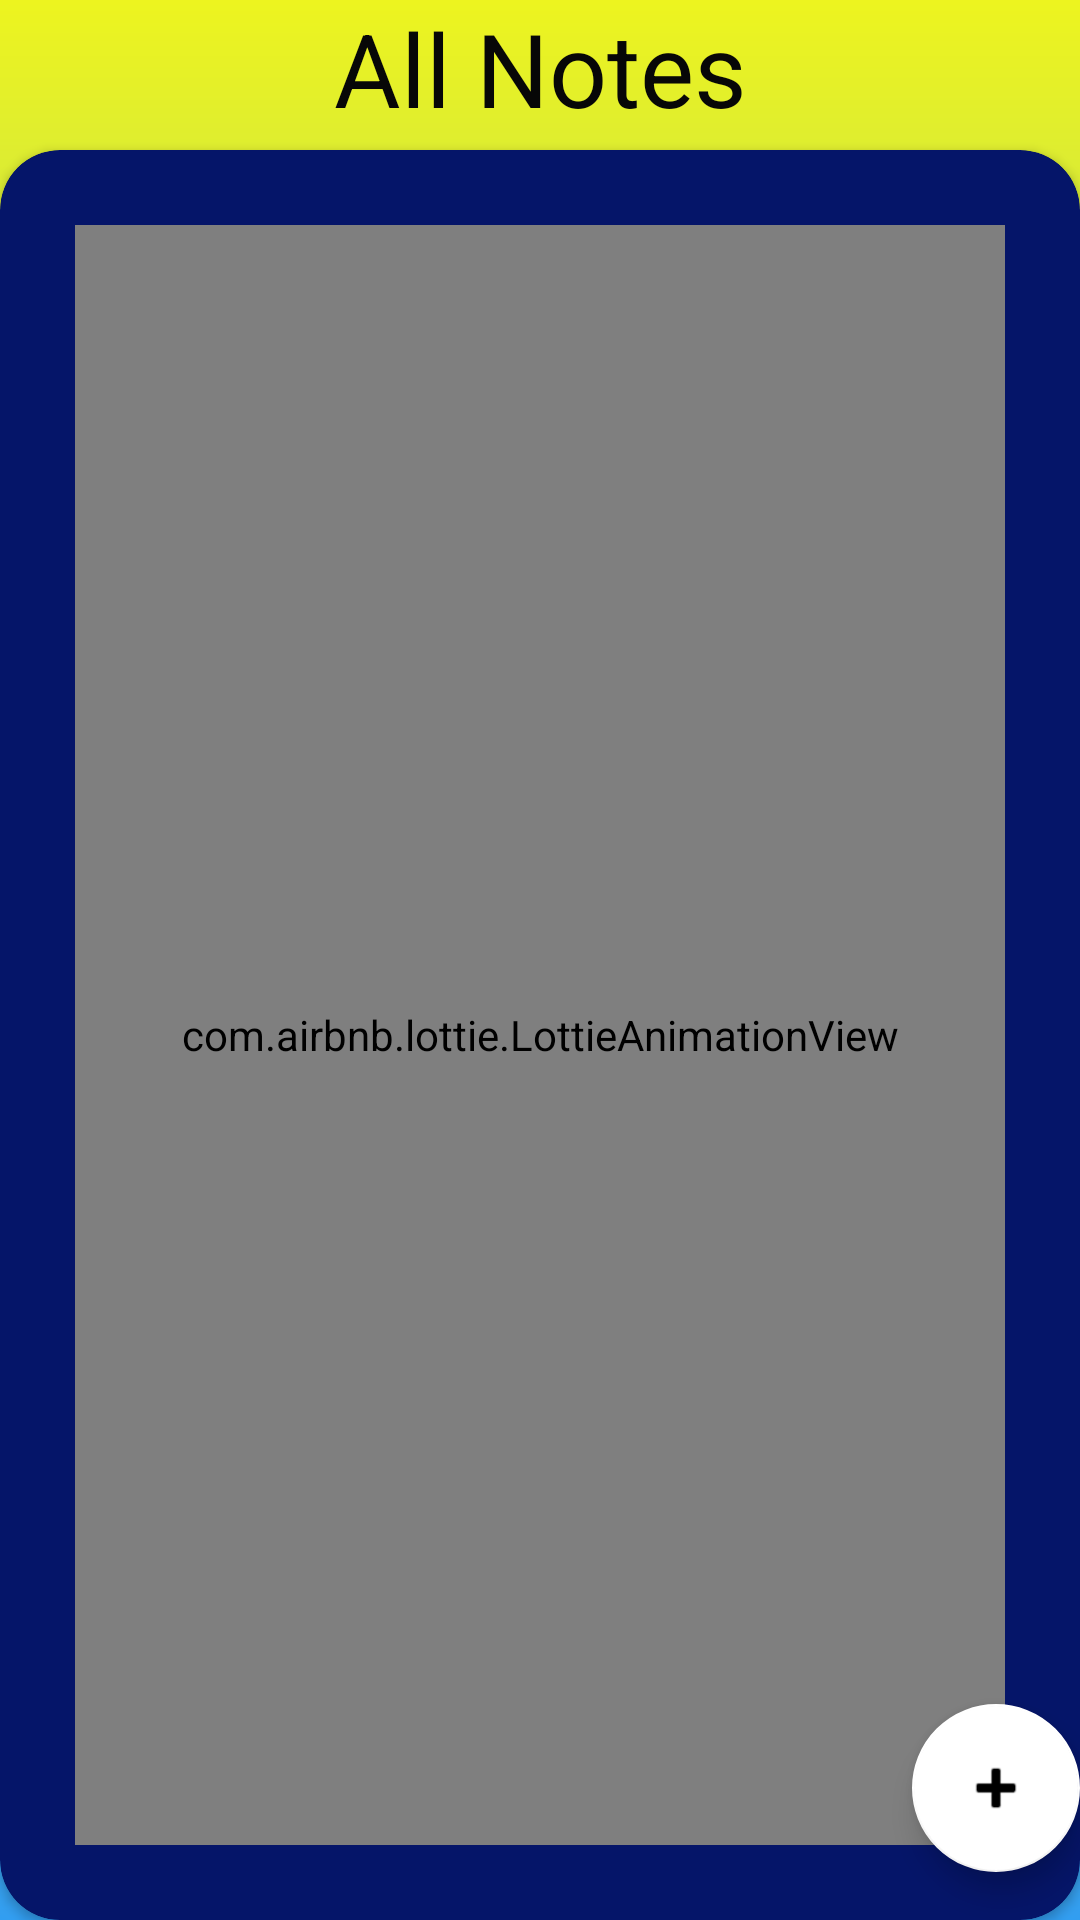

Named icons in this screenshot (1080×1920) and their centers, [x,y]:
add: [996,1788]
